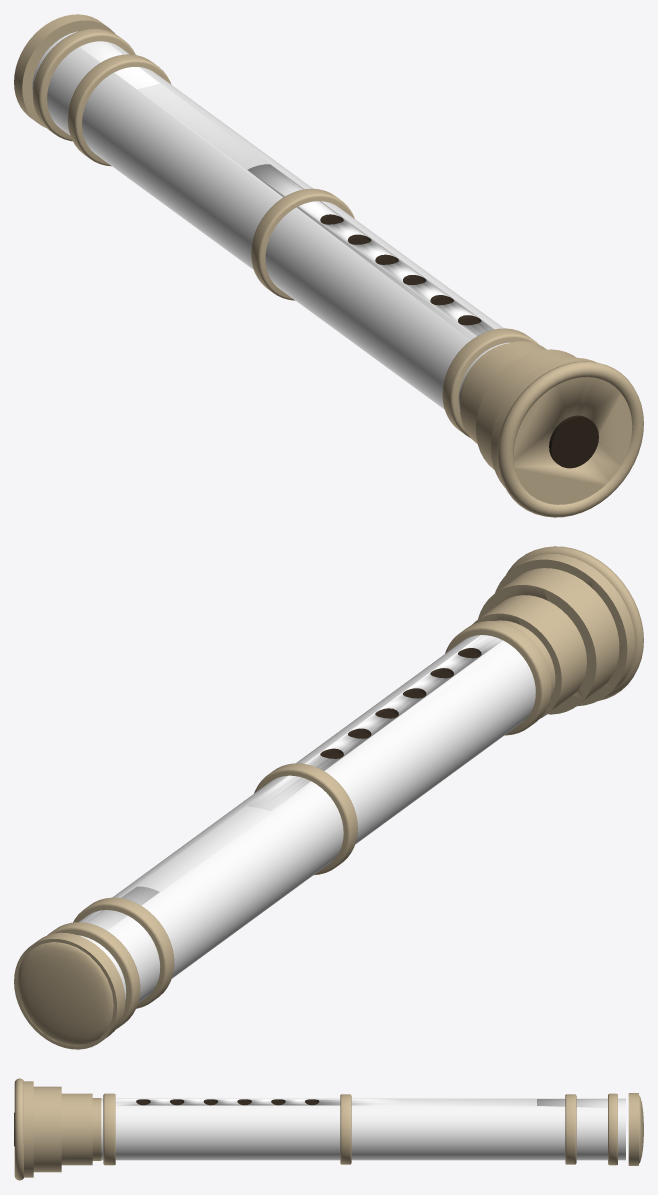
3 views of the same model, one above another, from view 1: azimuth 30°, elevation 25°; view 2: azimuth 150°, elevation 25°; view 3: azimuth 270°, elevation 25° (orthographic). The views are drawn at different scales.
Visible parts, largest first — view 1: flute_v8_default; view 2: flute_v8_default; view 3: flute_v8_default.
Boxes of the visible parts, x1=… form: flute_v8_default: x1=14, y1=14, x2=643, y2=517; flute_v8_default: x1=14, y1=546, x2=643, y2=1049; flute_v8_default: x1=14, y1=1078, x2=643, y2=1180.
Size of the model in its own units: 0.182 by 0.182 by 1.12.
